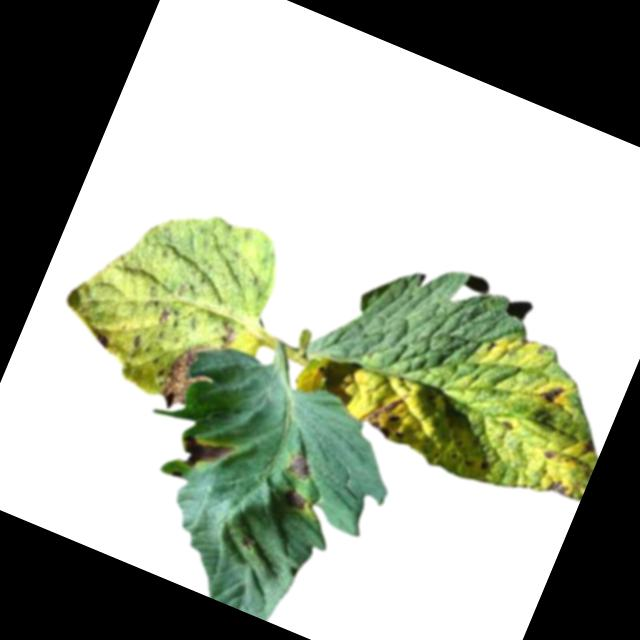Early_blight: (153, 305, 240, 421), (173, 426, 236, 481), (363, 387, 420, 444), (285, 447, 319, 481), (535, 376, 569, 409), (283, 484, 312, 512), (88, 326, 116, 352), (546, 476, 571, 499), (156, 305, 176, 330)
